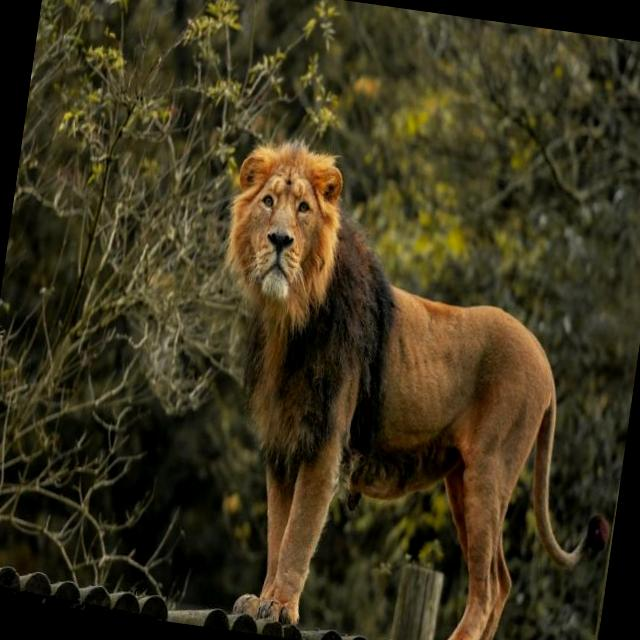lions: (77, 81, 640, 640)
